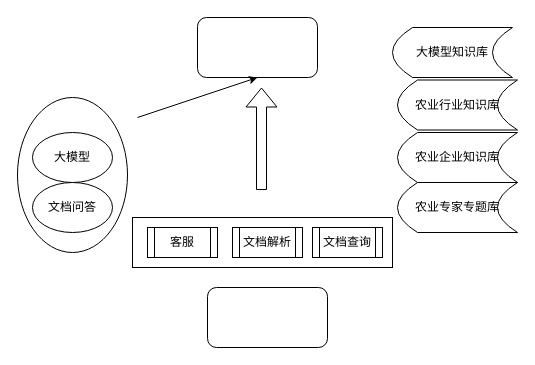
Some shapes in this 535 by 365 pixel diagram are drawn without their labels. The shapes that lost their labels are listed below. From the top down, each one's box as (x1, y1, x2, y2) in pixels, then its label:
(196, 16, 318, 78): 农事问答
(206, 286, 328, 348): 知识服务平台
